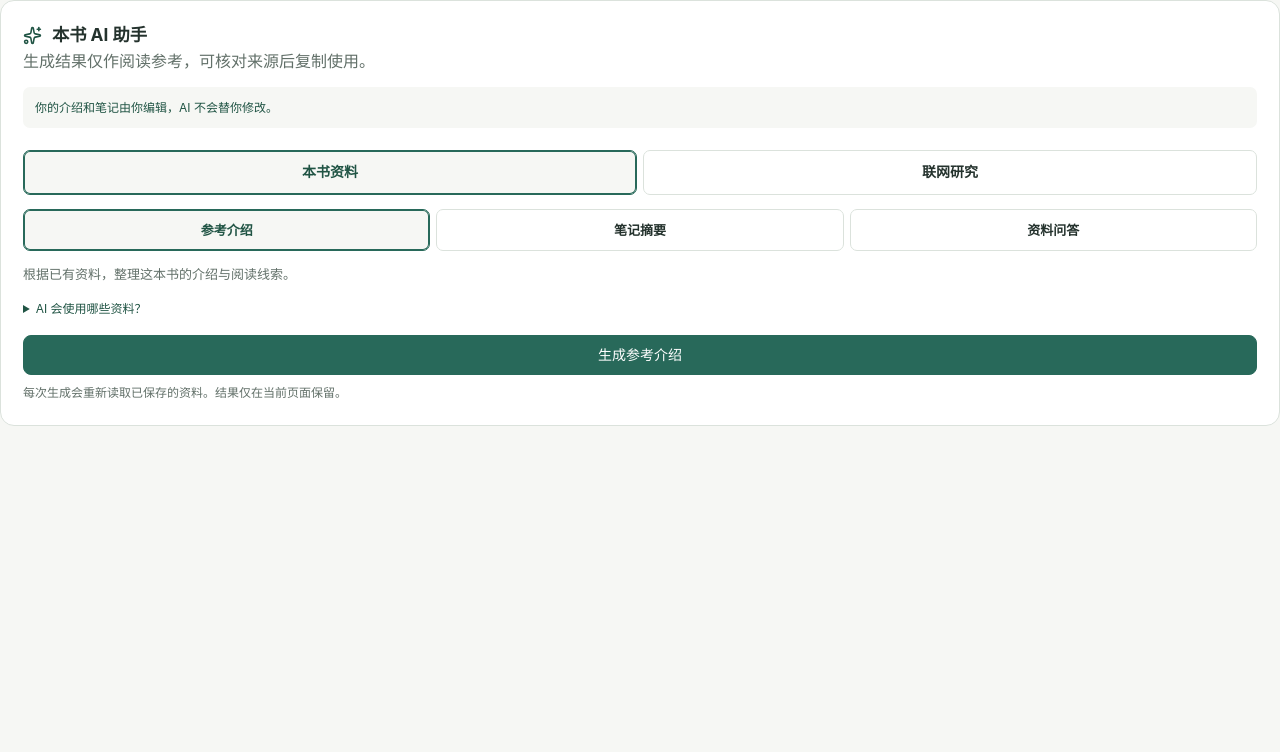
Test: book AI read-only sidebar › replaces only the transient result when generating again
Click the button "生成参考介绍" at {"x": 640, "y": 355}, box top-left (23, 335), bottom-right (1257, 375)
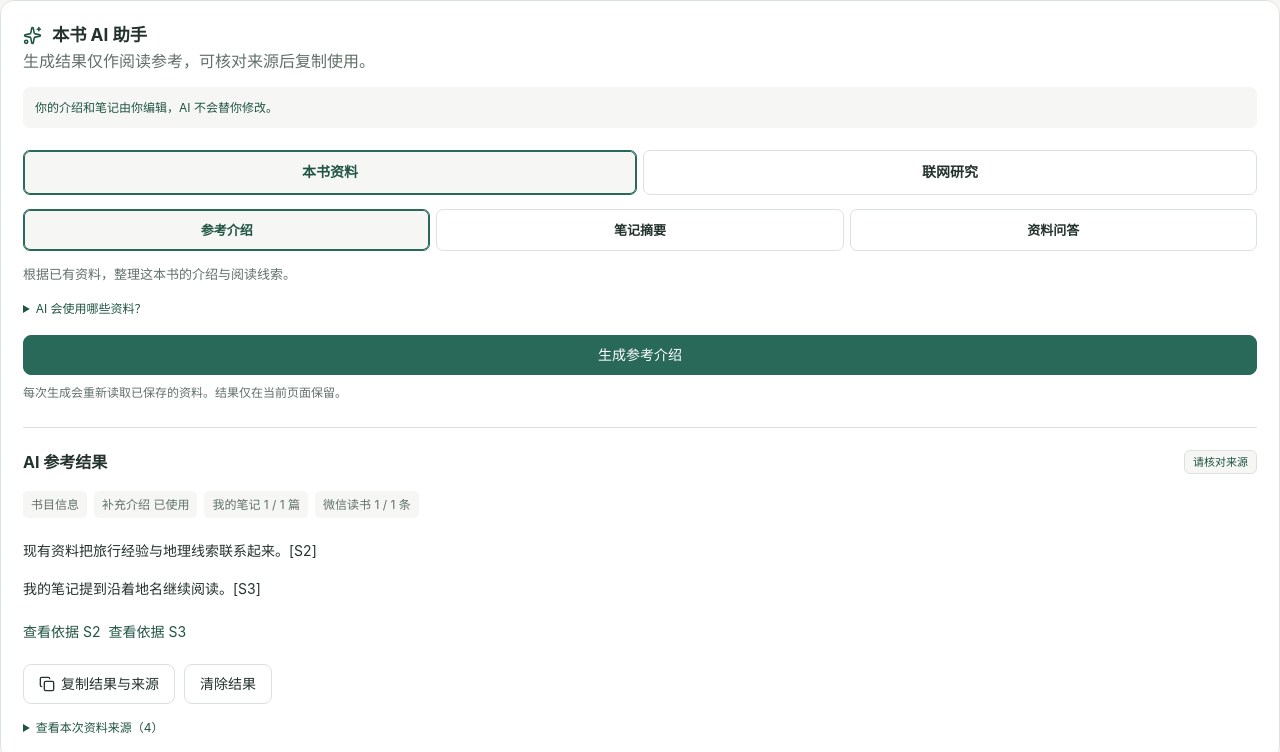
Click the button "复制结果与来源" at {"x": 99, "y": 684}, box top-left (23, 664), bottom-right (175, 704)
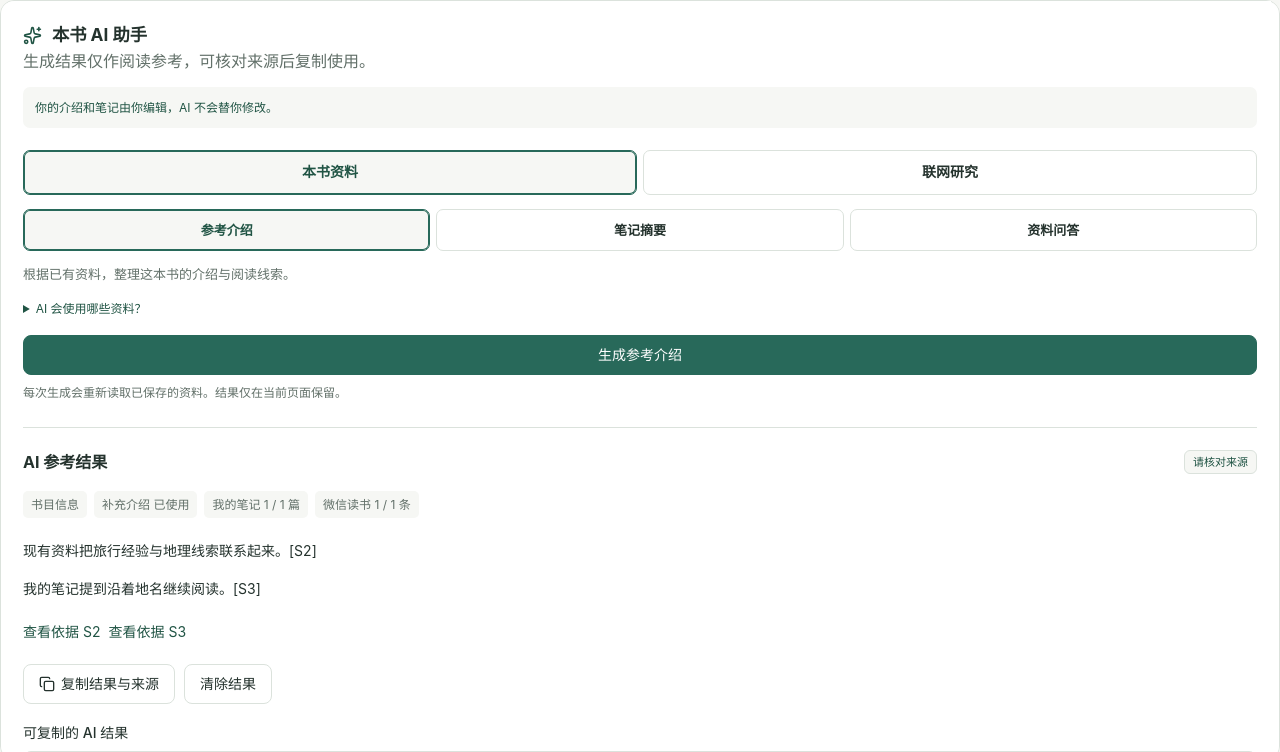
Click the button "生成参考介绍" at {"x": 640, "y": 355}, box top-left (23, 335), bottom-right (1257, 375)
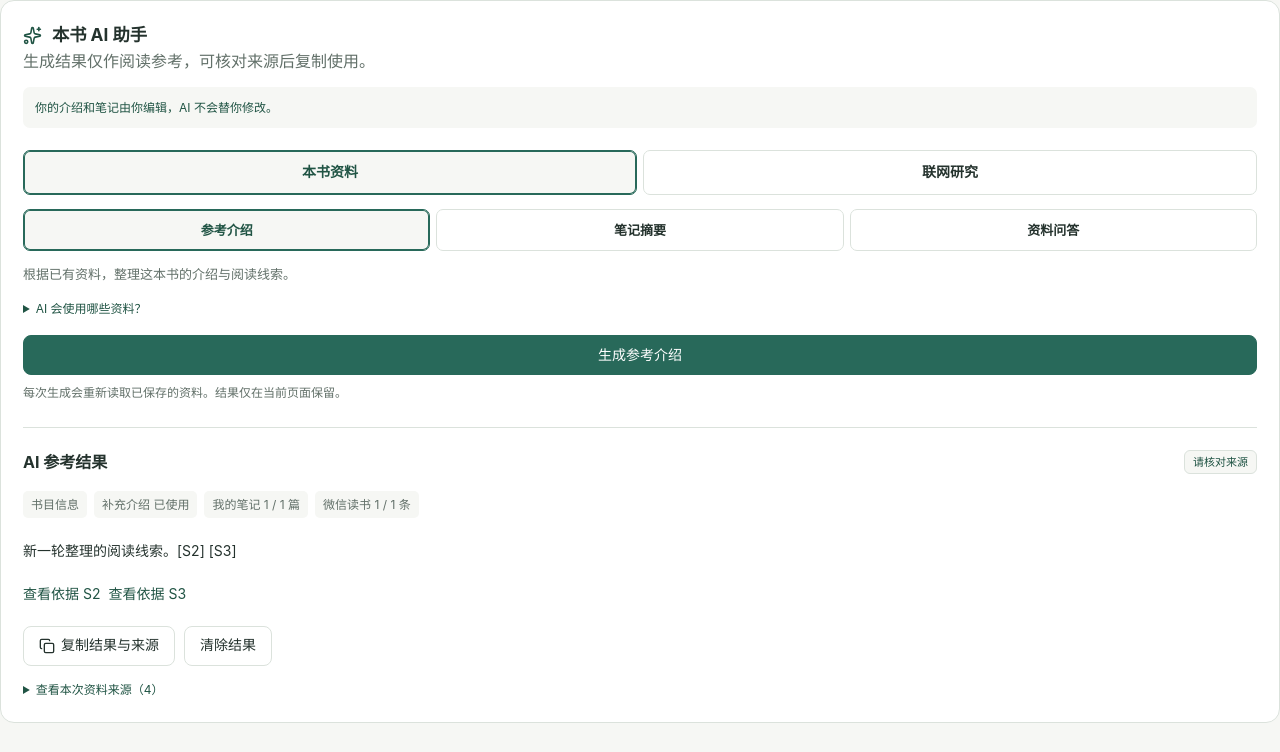
Expected: the text labelled "可复制的 AI 结果" is gone
Expected: the element named "AI 参考结果" shows "新一轮整理的阅读线索", top-left (23, 542), bottom-right (236, 559)
Expected: the text "AI 参考结果" no longer shows "现有资料把旅行经验"
